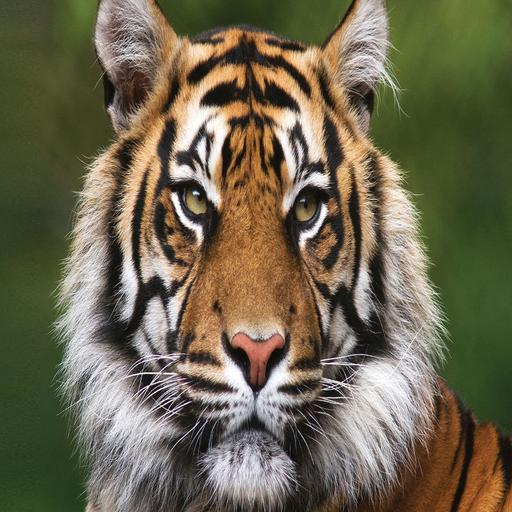Tiger: (46, 0, 512, 512)
